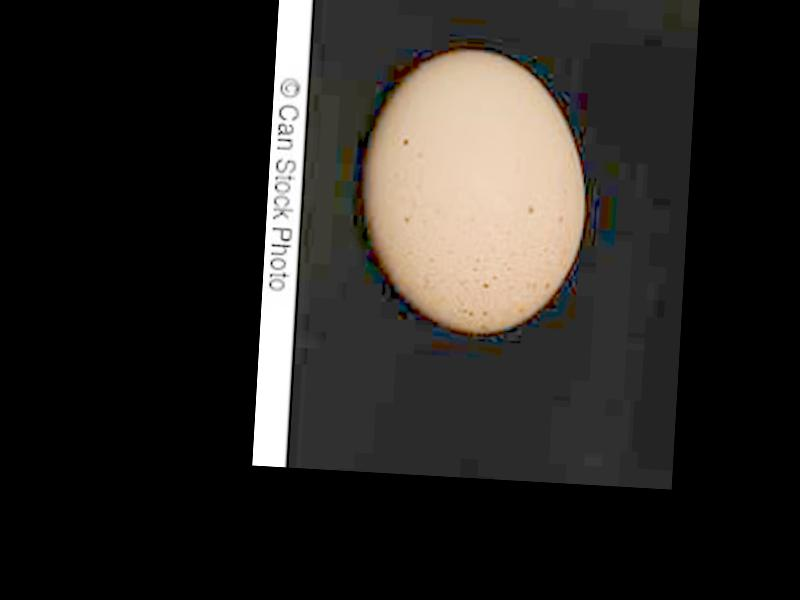Eggs: (355, 45, 592, 336)
